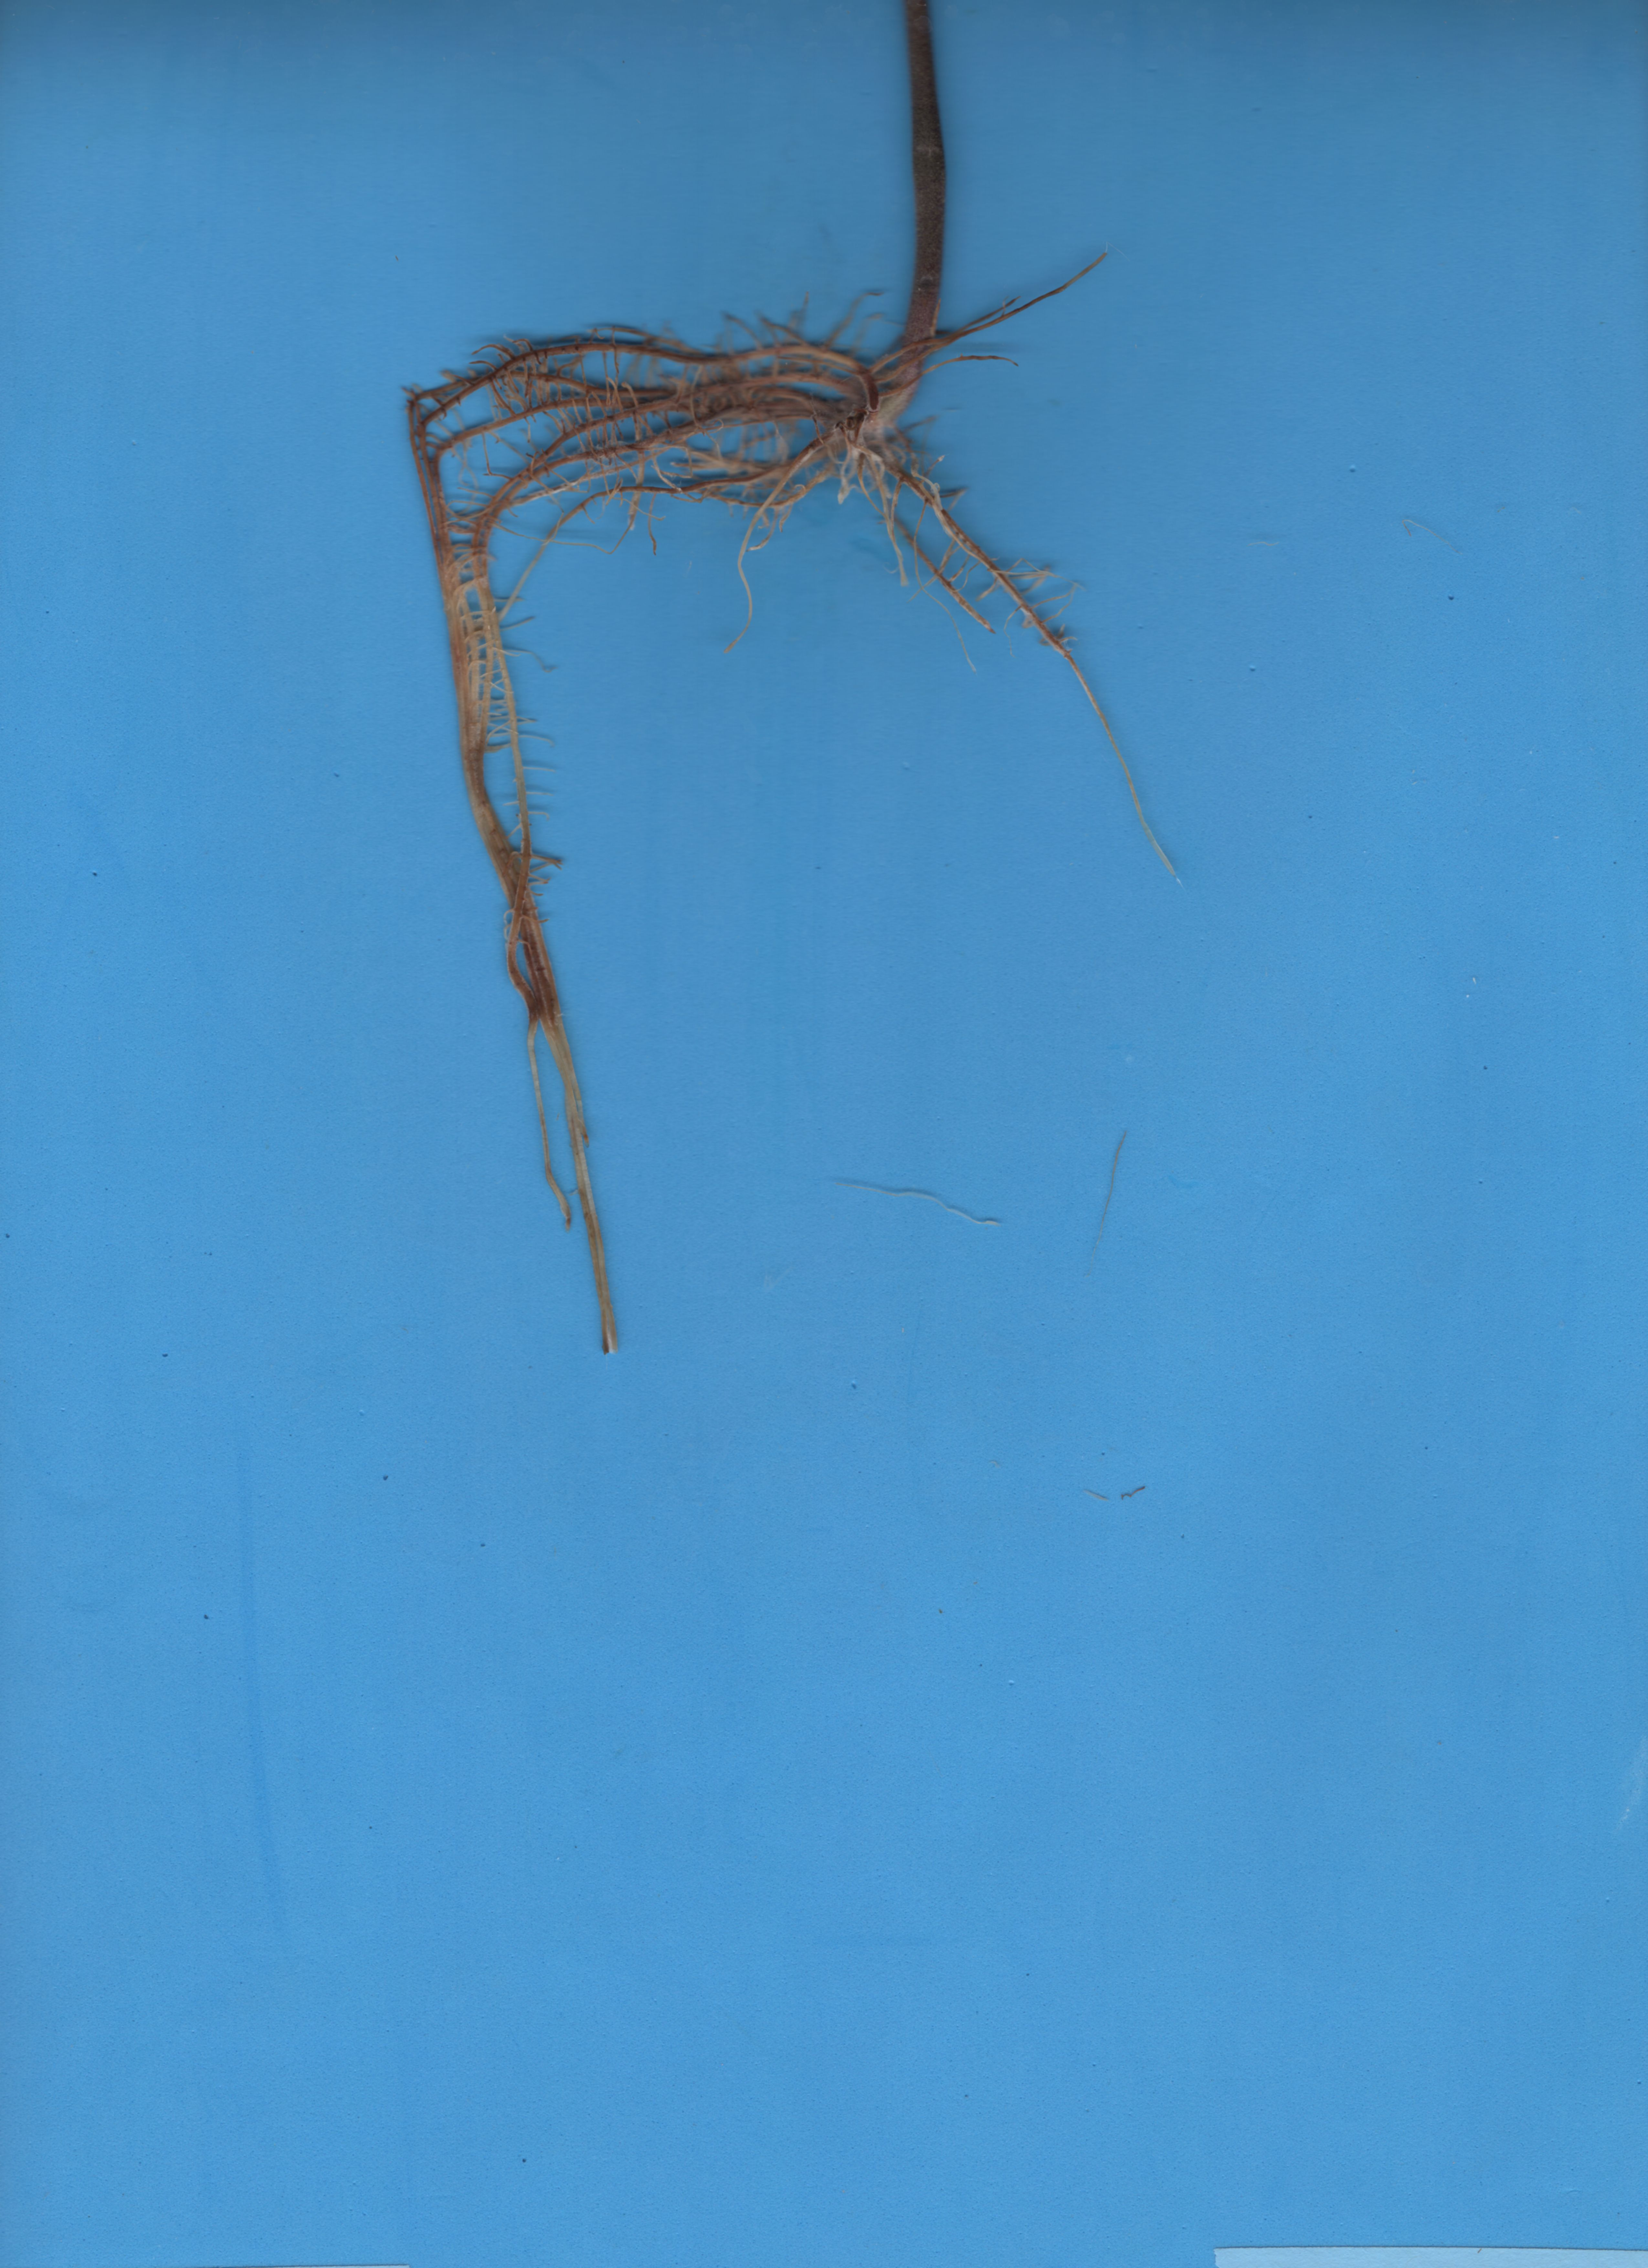CROWNDISEASE: (835, 21, 1049, 347)
ROOTDISEASE: (109, 291, 1335, 1456)
